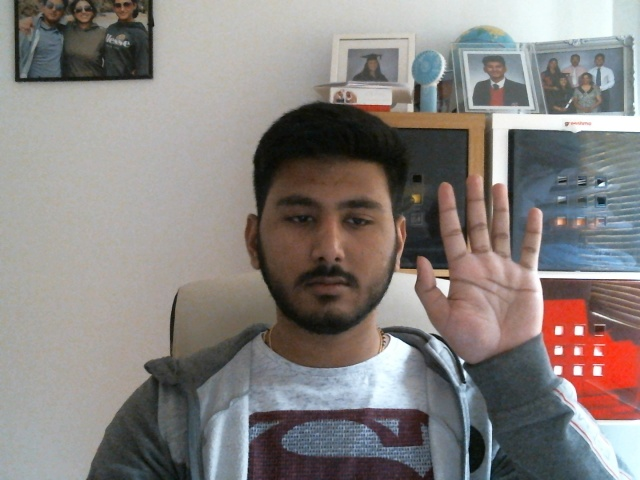hello: (415, 174, 542, 344)
